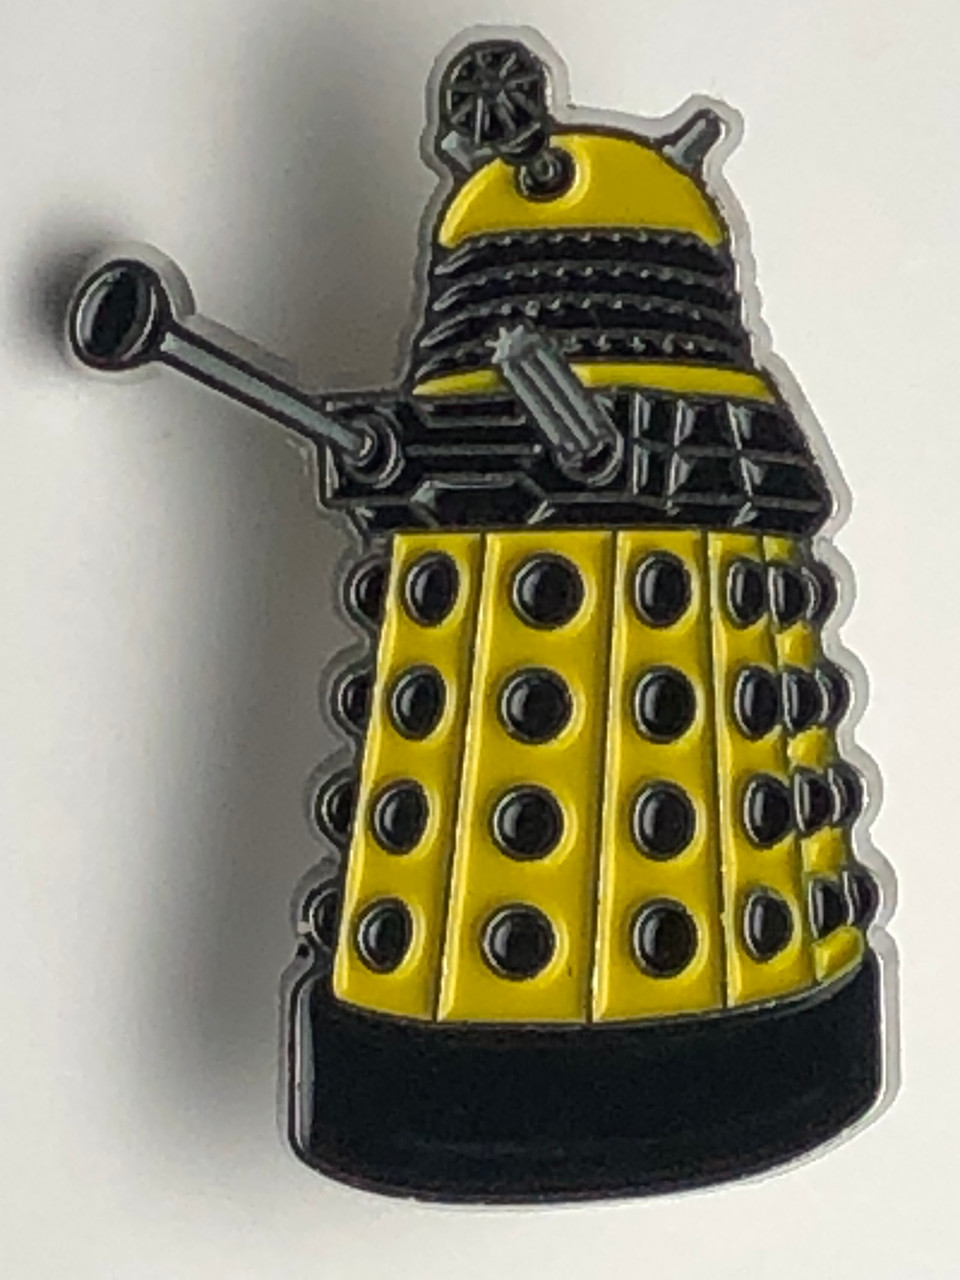dalek: (188, 11, 909, 1273)
